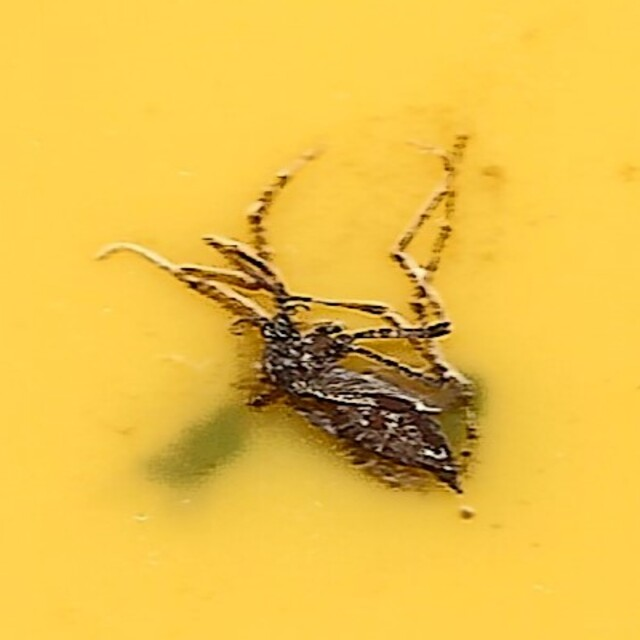Nematocera: (160, 135, 480, 505)
